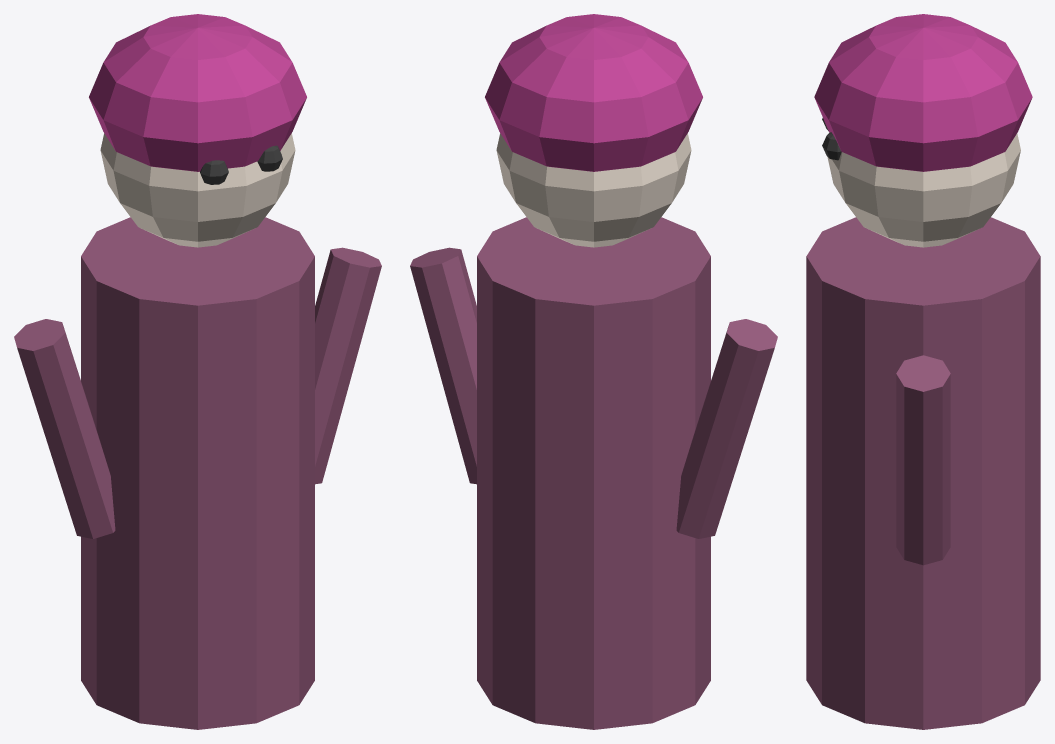
Rendered from hero_chopin.glb.
3 views of the same model, side by side, from view 1: azimuth 30°, elevation 25°; view 2: azimuth 150°, elevation 25°; view 3: azimuth 270°, elevation 25° (orthographic).
Visible parts, largest first — view 1: hero_chopin_Body, hero_chopin_Wig, hero_chopin_Head, hero_chopin_Arm, hero_chopin_Arm.001; view 2: hero_chopin_Body, hero_chopin_Wig, hero_chopin_Head, hero_chopin_Arm, hero_chopin_Arm.001; view 3: hero_chopin_Body, hero_chopin_Wig, hero_chopin_Head, hero_chopin_Arm.001.
Part boxes in pixels (x1=…): hero_chopin_Body: x1=81, y1=217, x2=314, y2=729; hero_chopin_Wig: x1=89, y1=14, x2=306, y2=171; hero_chopin_Head: x1=100, y1=133, x2=295, y2=247; hero_chopin_Arm: x1=14, y1=319, x2=115, y2=538; hero_chopin_Arm.001: x1=315, y1=247, x2=381, y2=484; hero_chopin_Body: x1=477, y1=217, x2=710, y2=729; hero_chopin_Wig: x1=485, y1=14, x2=702, y2=171; hero_chopin_Head: x1=496, y1=133, x2=691, y2=247; hero_chopin_Arm: x1=676, y1=319, x2=777, y2=538; hero_chopin_Arm.001: x1=410, y1=247, x2=476, y2=484; hero_chopin_Body: x1=806, y1=217, x2=1040, y2=729; hero_chopin_Wig: x1=814, y1=14, x2=1032, y2=171; hero_chopin_Head: x1=827, y1=133, x2=1020, y2=247; hero_chopin_Arm.001: x1=896, y1=355, x2=950, y2=565.
Size of the model in its own units: 1.07 by 1.85 by 0.6.
